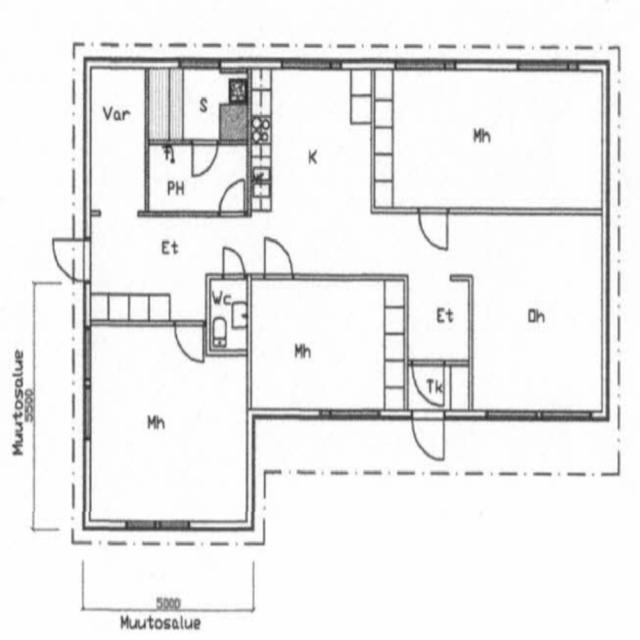door: (157, 139, 239, 214), (409, 404, 448, 463), (410, 358, 448, 408), (415, 202, 451, 254), (50, 237, 90, 283), (260, 234, 297, 282), (172, 319, 206, 365), (217, 174, 248, 218), (190, 137, 220, 180), (220, 243, 247, 281)
window: (445, 199, 603, 221)
zone: (81, 321, 250, 532), (372, 67, 608, 211), (467, 210, 606, 420), (250, 66, 376, 276), (248, 276, 406, 417), (87, 214, 214, 323), (88, 64, 146, 217), (147, 141, 248, 217), (146, 67, 246, 142), (407, 272, 471, 364), (208, 275, 248, 357), (50, 237, 90, 283)
